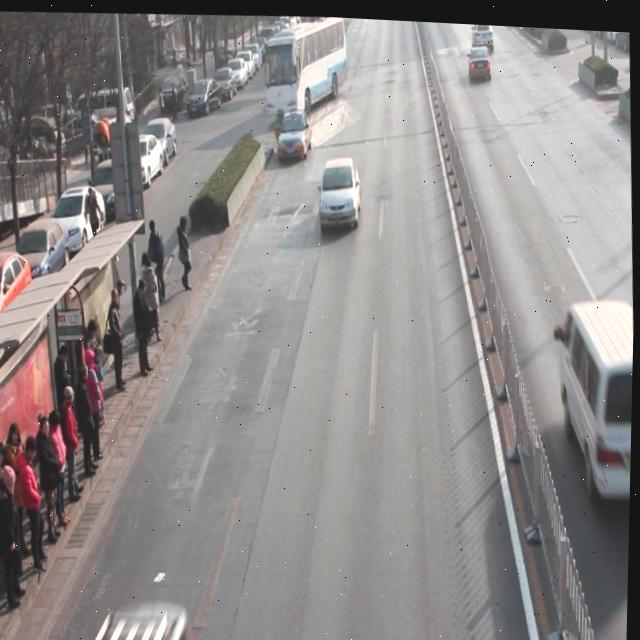car: (318, 152, 365, 230), (276, 103, 314, 161), (468, 38, 492, 78), (469, 19, 494, 49)
truck: (556, 290, 635, 498)
van: (262, 14, 348, 111)
